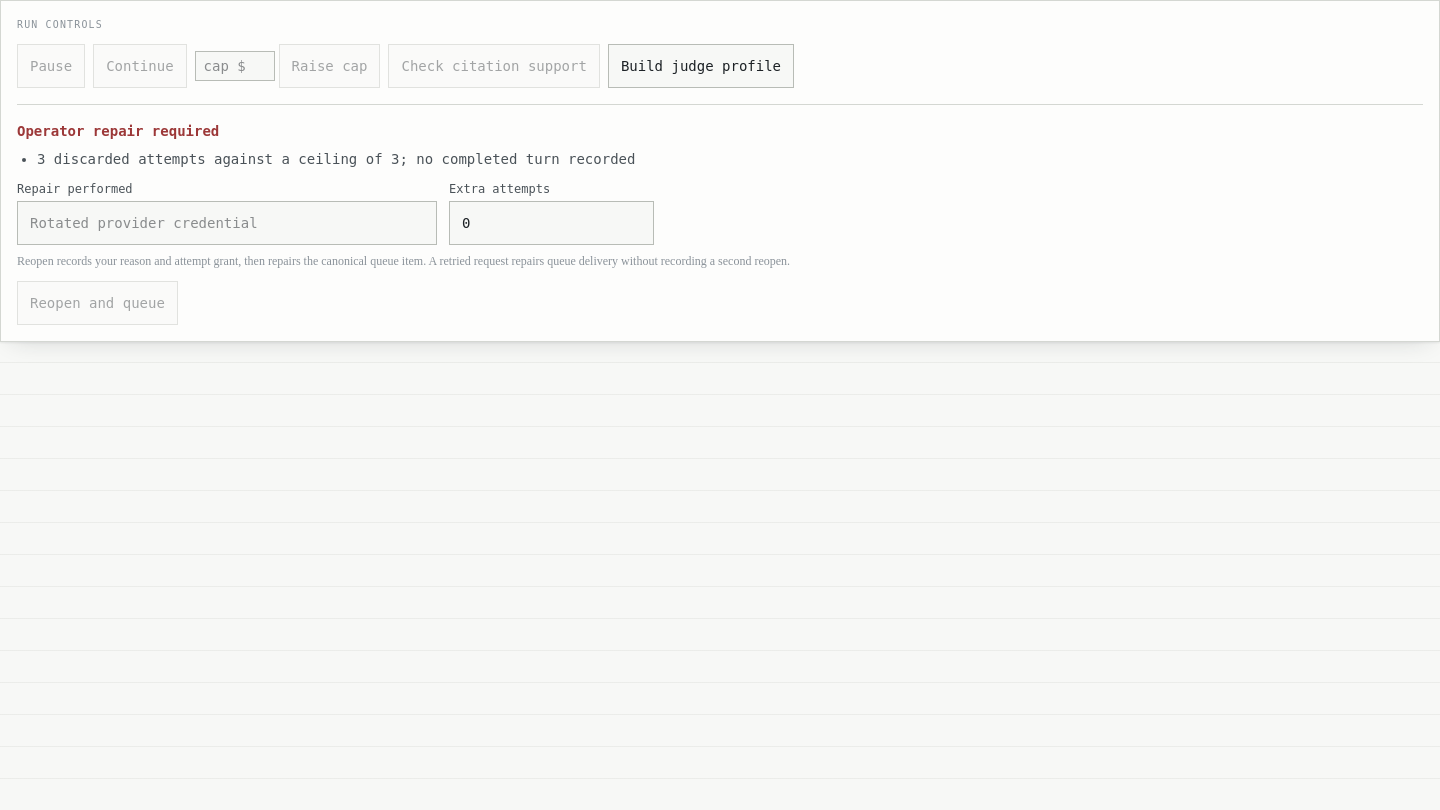
Test: needs-attention recovery › shows the blocker and records the repair reason plus attempt grant before queue repair
Expected: the list item "3 discarded attempts against a ceiling of 3" is shown, [37,151,636,167]
Expected: the button "Reopen and queue" is disabled, [17,281,178,325]
Type "Corrected the persona prompt" into the field labelled "Repair performed". click: [227, 223]
box: [17,201,437,245]
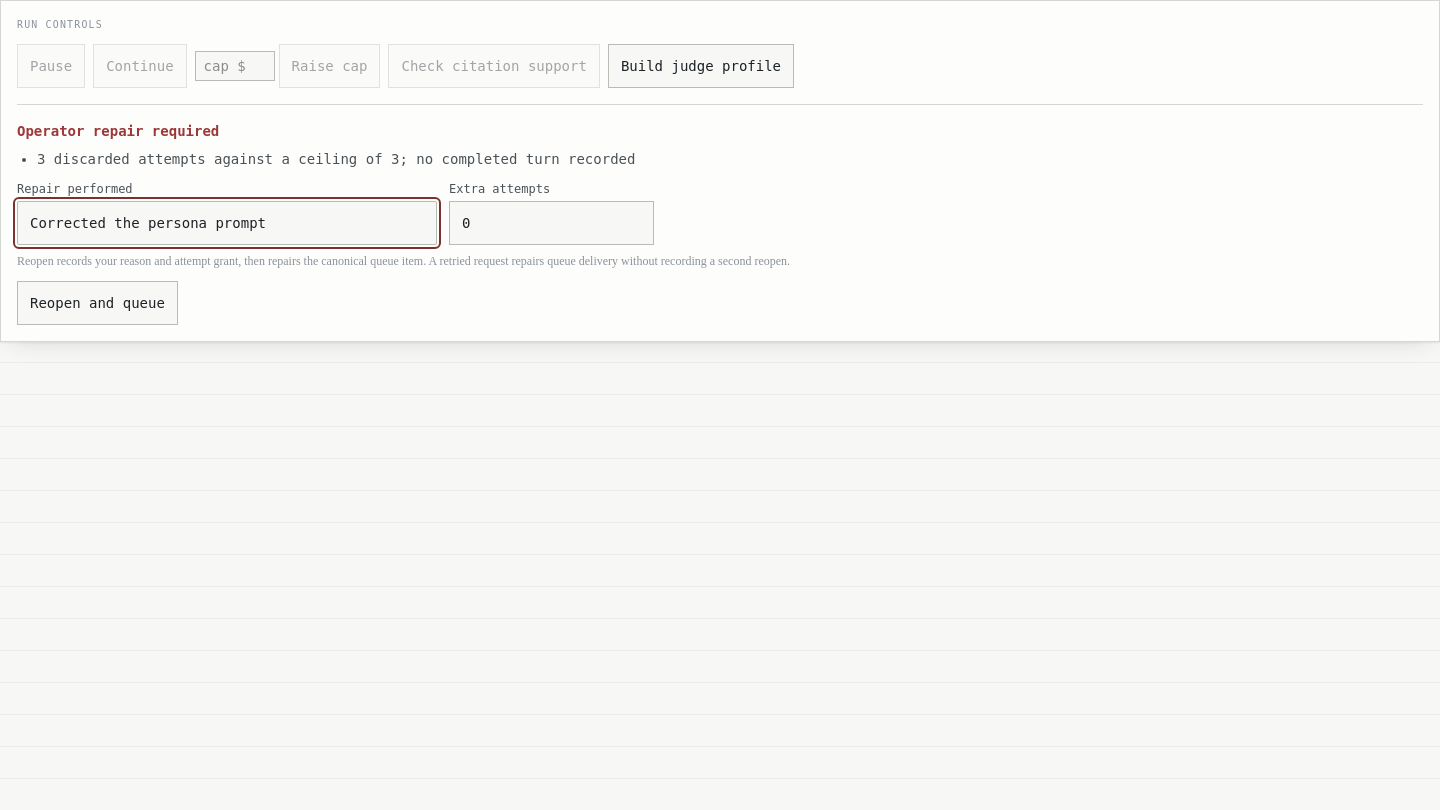
Replace the text in the number field labelled "Extra attempts" with "2". click: [552, 223]
box: [449,201,654,245]
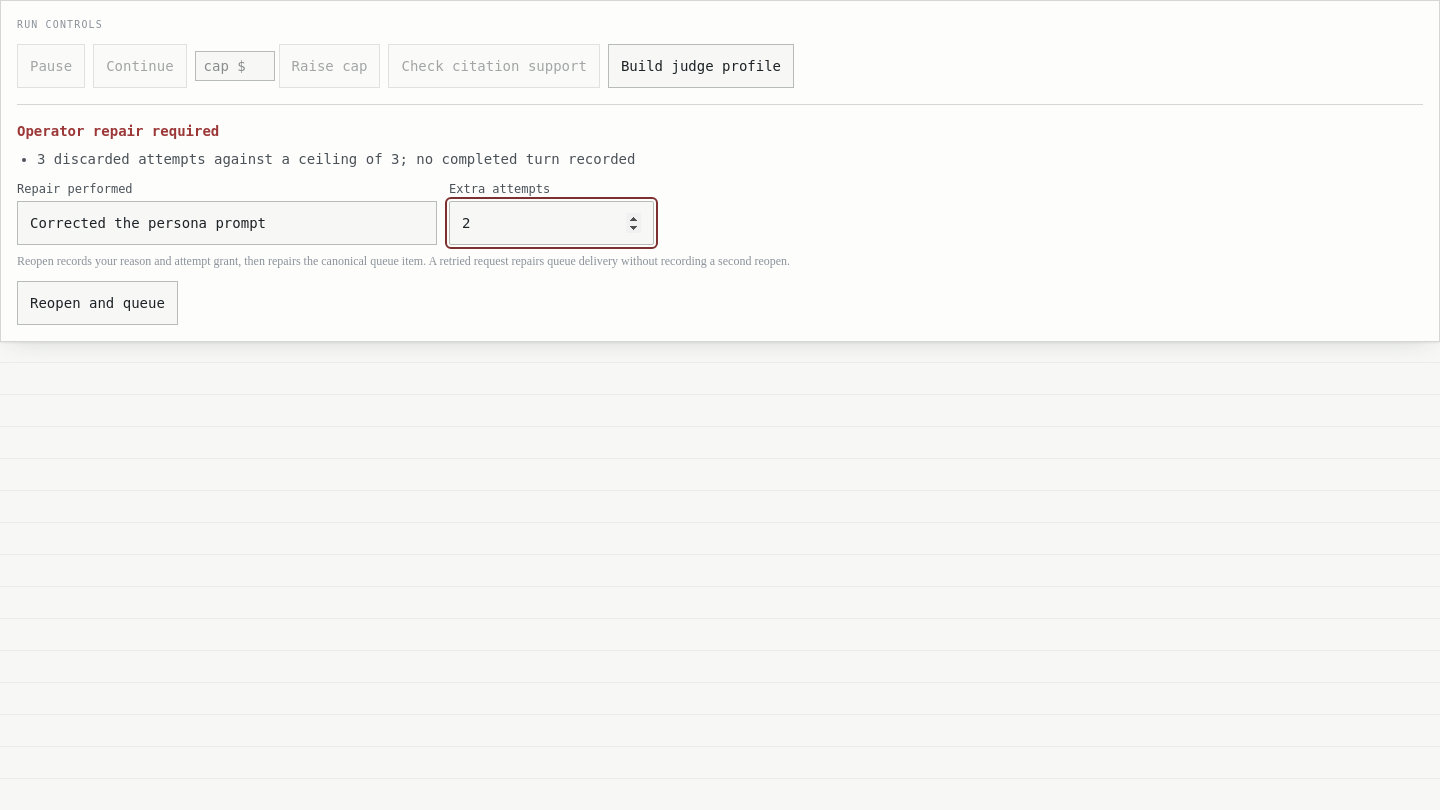
Click the button "Reopen and queue". click: [97, 303]
box: [17,281,178,325]
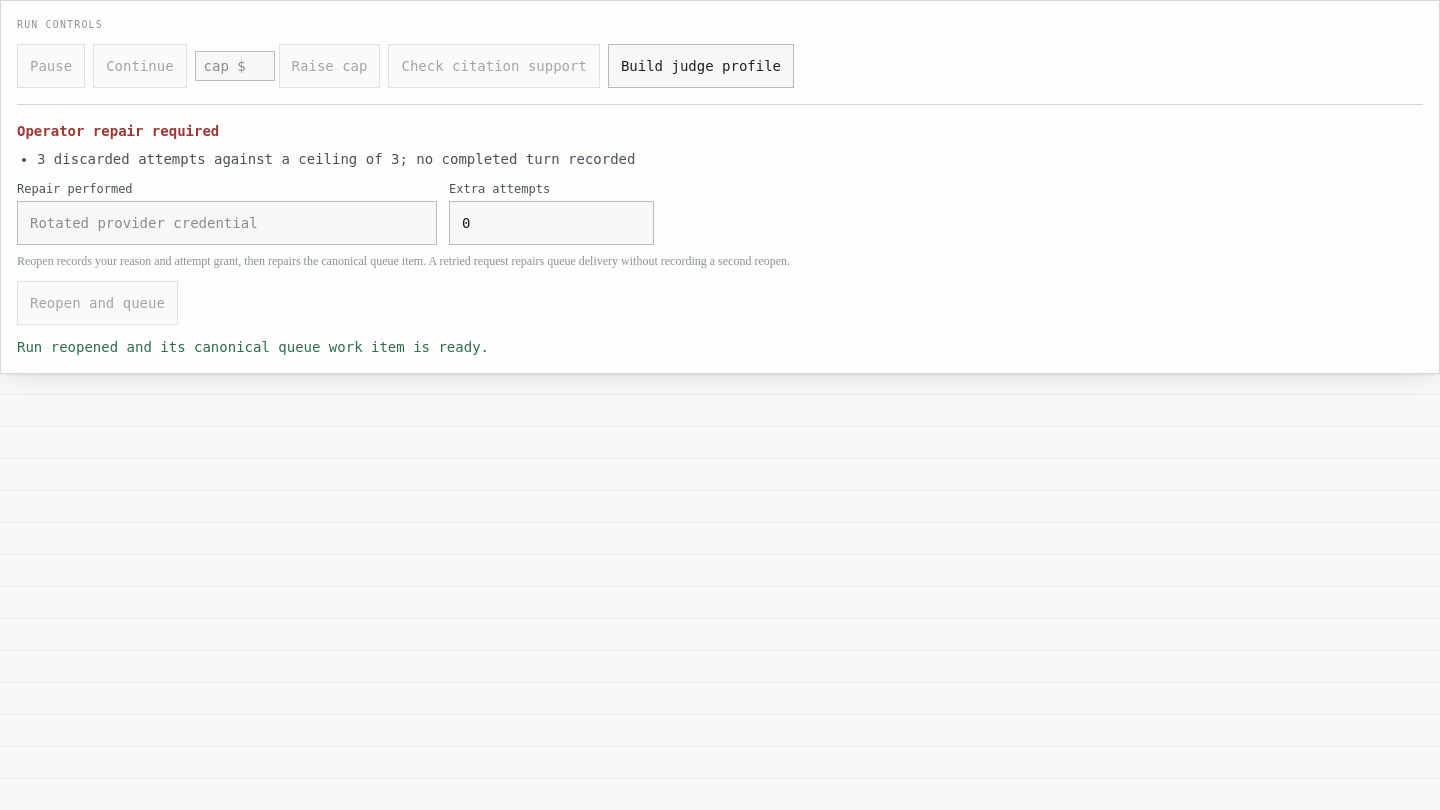
Now the text "Run reopened and its canonical queue work item is ready." is shown, box [17,339,489,355]
